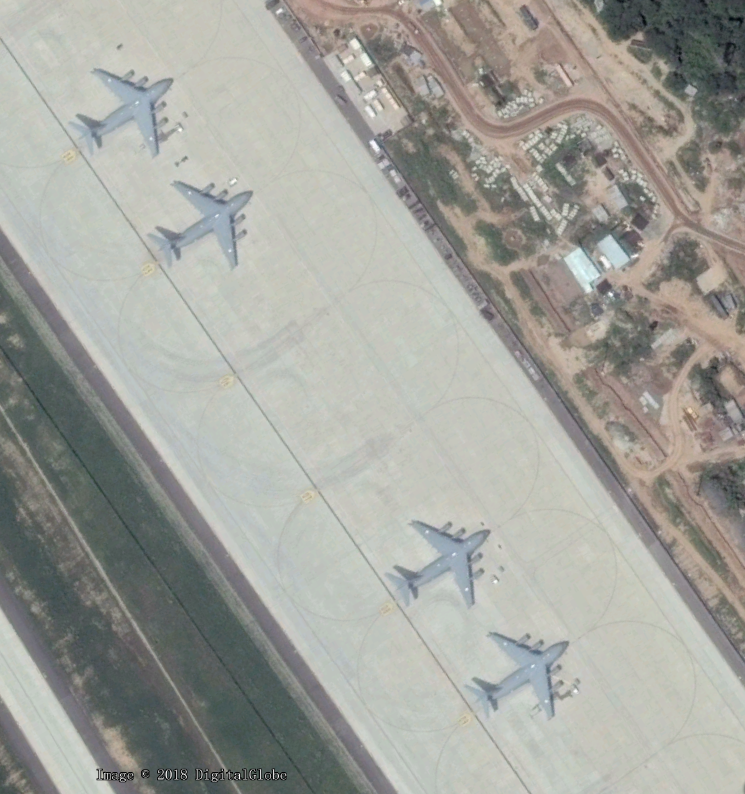A3: (376, 512, 495, 610), (140, 173, 256, 273), (459, 622, 572, 724), (70, 60, 177, 160)
